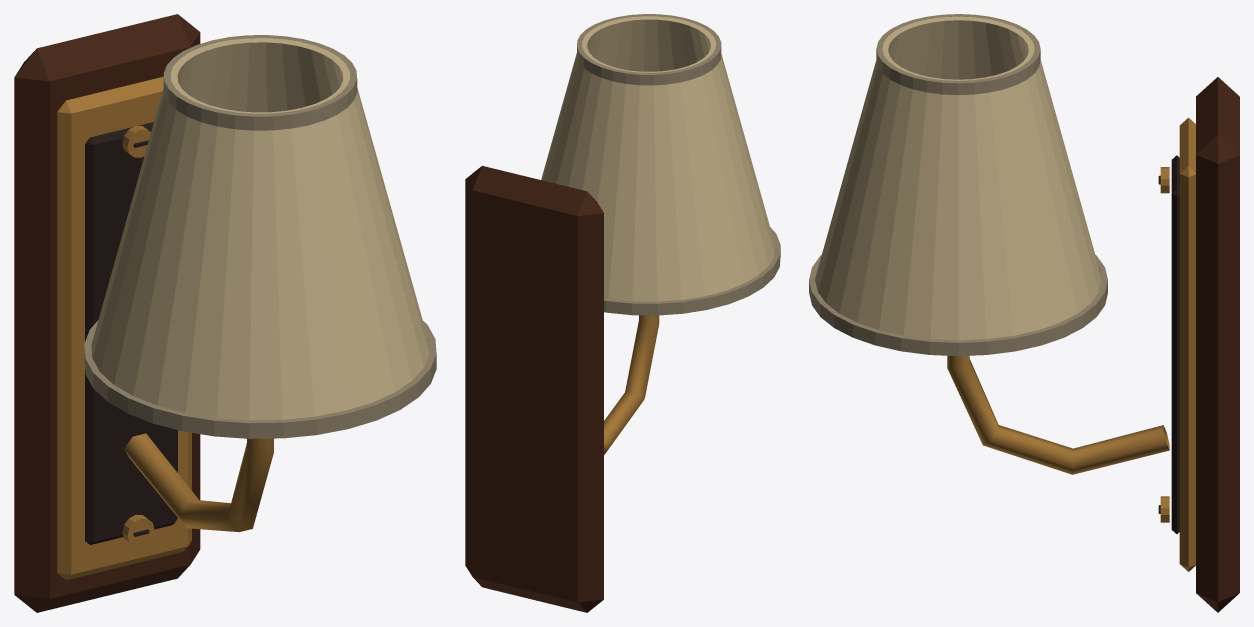
Rendered from PubWallSconce.glb.
The picture shows the model from 3 angles, left to right: view 1: azimuth 30°, elevation 25°; view 2: azimuth 150°, elevation 25°; view 3: azimuth 270°, elevation 25°; orthographic projection. The views are drawn at different scales.
Parts seen in each view (by area): view 1: IvoryShade, OakBackplate, BrassBackplate, DarkInset, ShadeBinding, CurvedSconceArm, ShadeBinding.001, BrassScrew, BrassScrew.001; view 2: OakBackplate, IvoryShade, ShadeBinding, CurvedSconceArm, ShadeBinding.001; view 3: IvoryShade, OakBackplate, BrassBackplate, CurvedSconceArm, ShadeBinding, ShadeBinding.001, DarkInset.
Part boxes in pixels (bbox=[...]): IvoryShade: bbox=[91, 38, 429, 420]; OakBackplate: bbox=[14, 14, 200, 612]; BrassBackplate: bbox=[57, 76, 191, 580]; DarkInset: bbox=[85, 122, 177, 544]; ShadeBinding: bbox=[84, 320, 436, 438]; CurvedSconceArm: bbox=[124, 433, 273, 532]; ShadeBinding.001: bbox=[163, 35, 357, 130]; BrassScrew: bbox=[122, 514, 154, 546]; BrassScrew.001: bbox=[122, 125, 150, 157]; OakBackplate: bbox=[465, 165, 603, 612]; IvoryShade: bbox=[541, 16, 775, 301]; ShadeBinding: bbox=[604, 227, 780, 315]; CurvedSconceArm: bbox=[604, 315, 659, 454]; ShadeBinding.001: bbox=[577, 14, 721, 85]; IvoryShade: bbox=[815, 16, 1101, 340]; OakBackplate: bbox=[1196, 77, 1239, 612]; BrassBackplate: bbox=[1179, 117, 1195, 571]; CurvedSconceArm: bbox=[947, 355, 1169, 474]; ShadeBinding: bbox=[809, 255, 1107, 356]; ShadeBinding.001: bbox=[876, 14, 1040, 95]; DarkInset: bbox=[1171, 155, 1179, 533].
Size of the model in its own units: 1.02 by 2.02 by 1.47.
